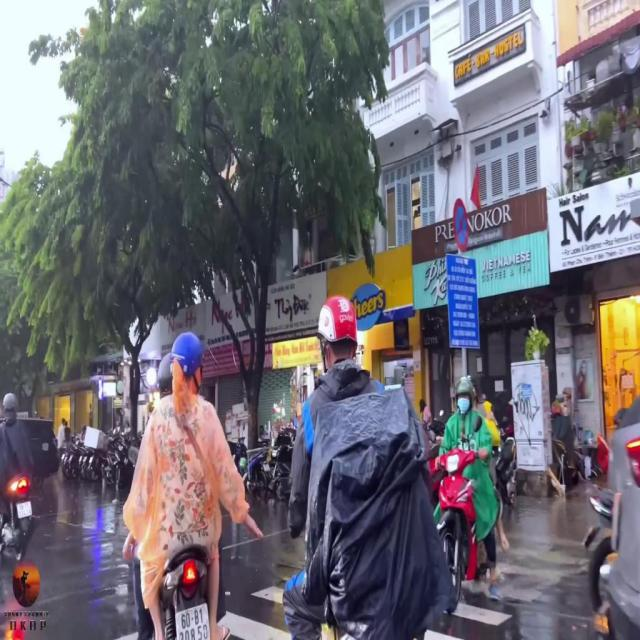cam_dung_xe_va_do_xe: (452, 198, 468, 254)
